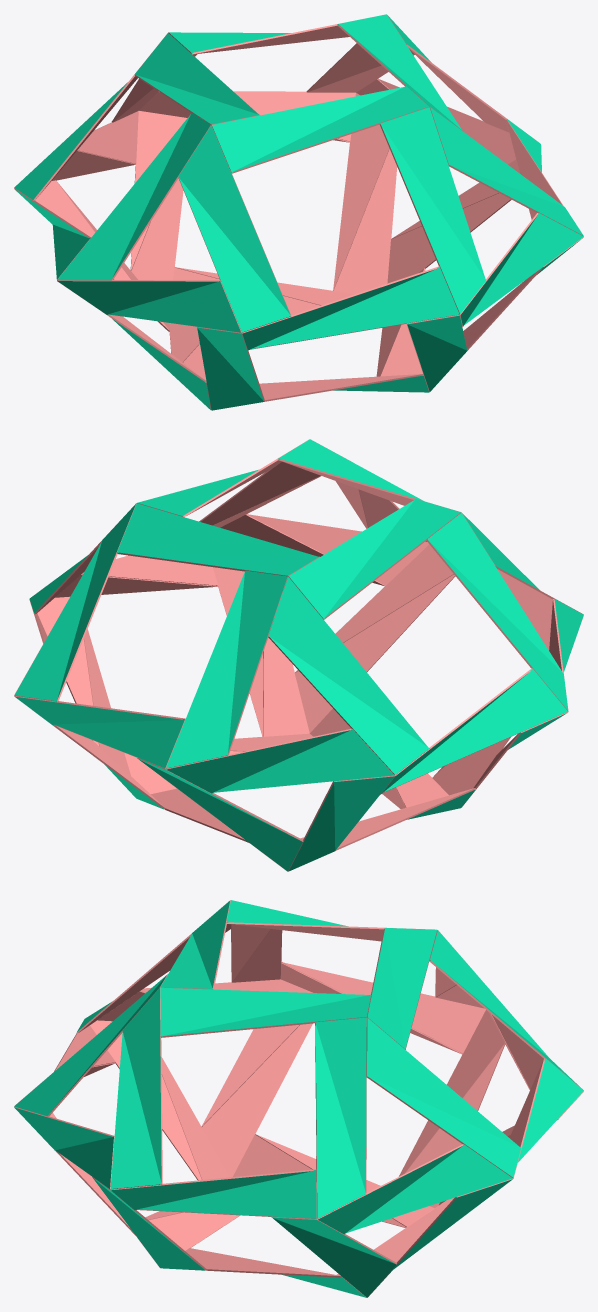
Rendered from SquareOrthobicupola.glb.
3 renders of one model, top to bottom at view 1: azimuth 30°, elevation 25°; view 2: azimuth 150°, elevation 25°; view 3: azimuth 270°, elevation 25°, orthographic. The views are drawn at different scales.
Parts seen in each view (by area): view 1: root; view 2: root; view 3: root.
Part boxes in pixels (left/top/right/bottom): root: left=14, top=14, right=583, bottom=410; root: left=14, top=439, right=583, bottom=871; root: left=14, top=900, right=583, bottom=1297.
Size of the model in its own units: 10.09 by 5.49 by 10.09.
